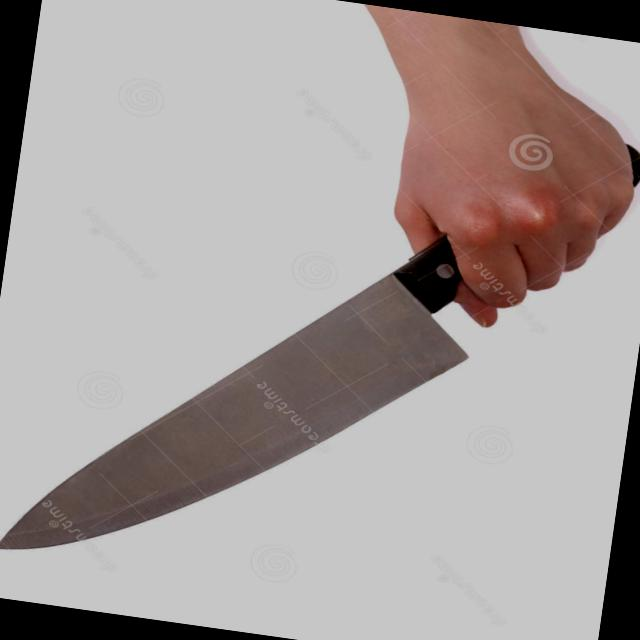knife: (0, 150, 534, 622)
